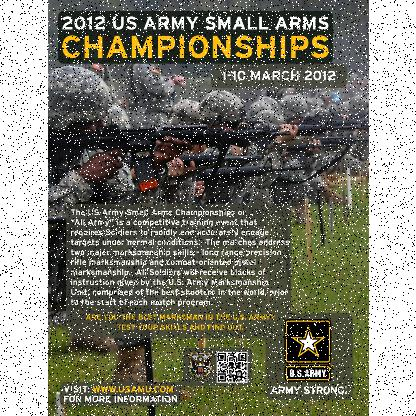gun: (46, 116, 268, 190)
